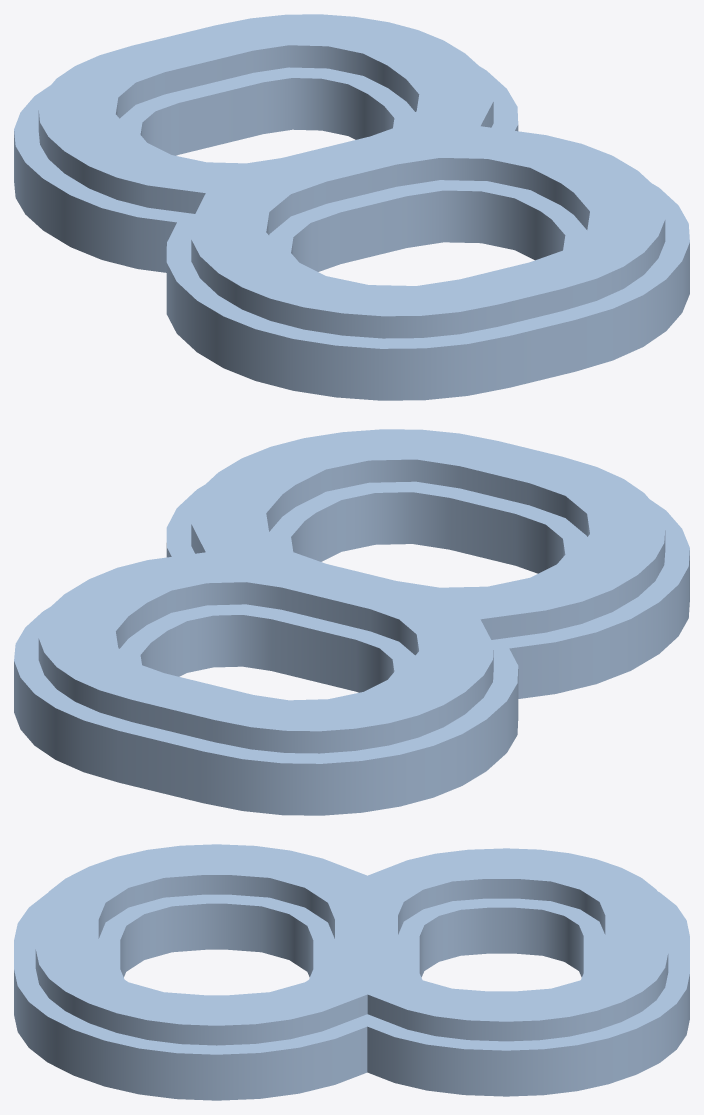
File: Jack.fbx
3 views of the same model, one above another, from view 1: azimuth 30°, elevation 25°; view 2: azimuth 150°, elevation 25°; view 3: azimuth 270°, elevation 25° (orthographic). The views are drawn at different scales.
Visible parts, largest first — view 1: 8; view 2: 8; view 3: 8.
Part boxes in pixels (left/top/right/bottom): 8: left=14, top=14, right=689, bottom=400; 8: left=14, top=429, right=689, bottom=815; 8: left=14, top=844, right=689, bottom=1100.
Size of the model in its own units: 3.27 by 0.5 by 4.67.
